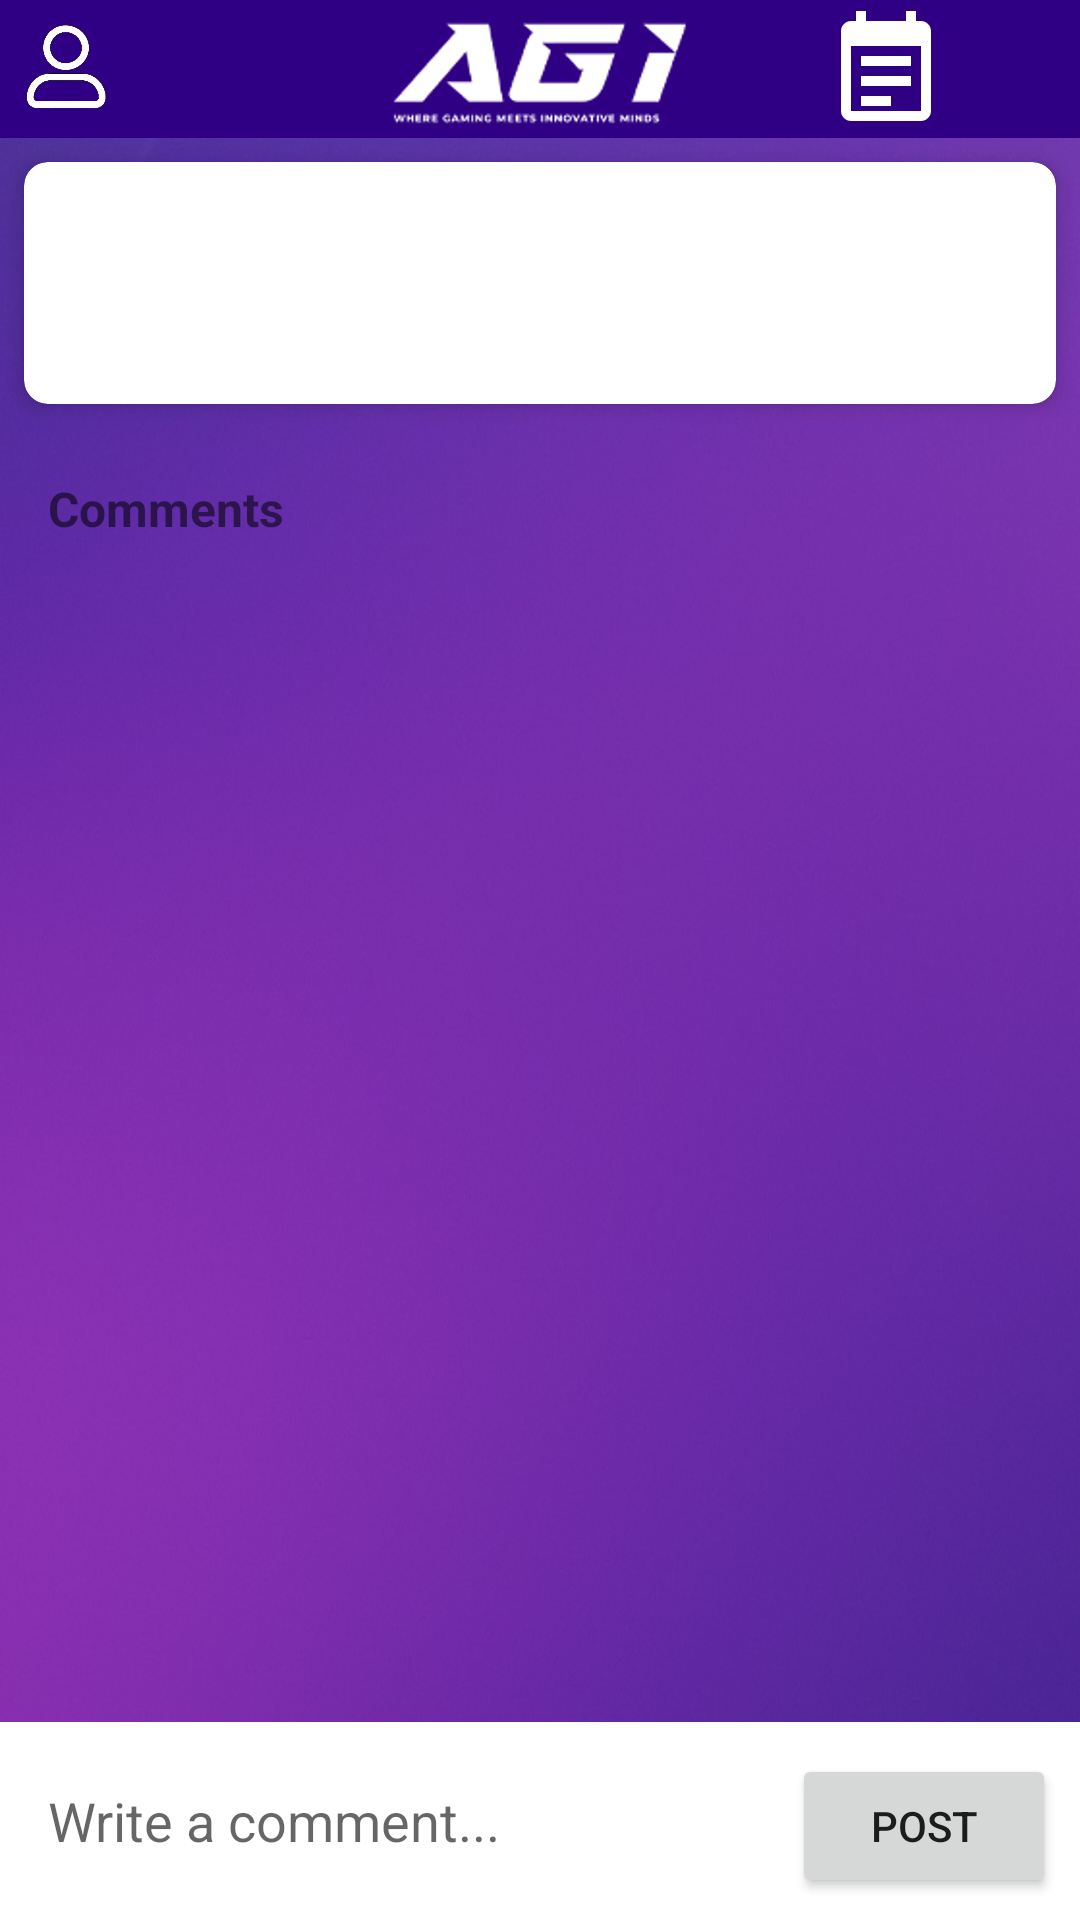

Where icons sit on this 1080px x 1920px app screen, as (x1, y1, x2, y2):
agenda: (841, 11, 931, 121)
profileicon: (27, 25, 106, 108)
